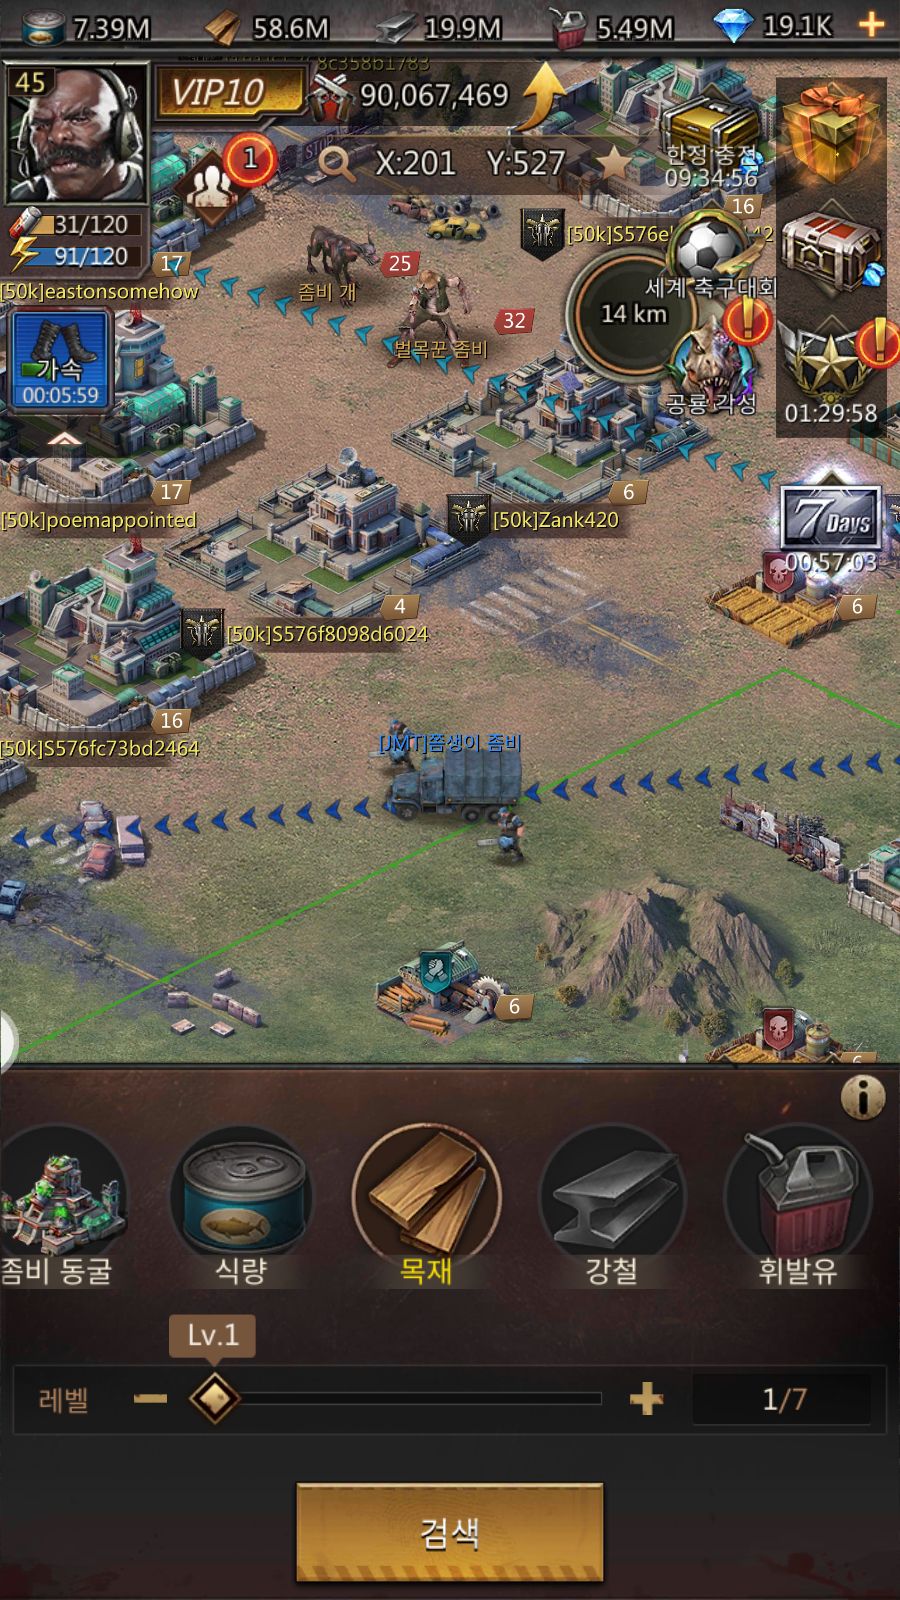rss_food_in_panel: (166, 1127, 315, 1291)
rss_gas_in_panel: (725, 1120, 870, 1302)
rss_lv1: (170, 1313, 262, 1357)
rss_minus_in_panel: (125, 1376, 176, 1422)
rss_plus_in_panel: (622, 1369, 673, 1420)
rss_search_in_panel: (295, 1485, 607, 1580)
rss_steel_in_panel: (537, 1122, 698, 1296)
rss_wood_in_panel: (348, 1113, 507, 1302)
troops_cnt_1: (171, 127, 281, 234)
